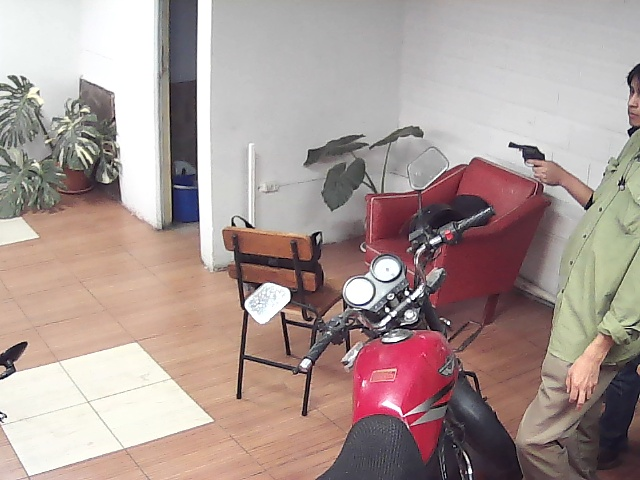pistola: (502, 136, 566, 189)
